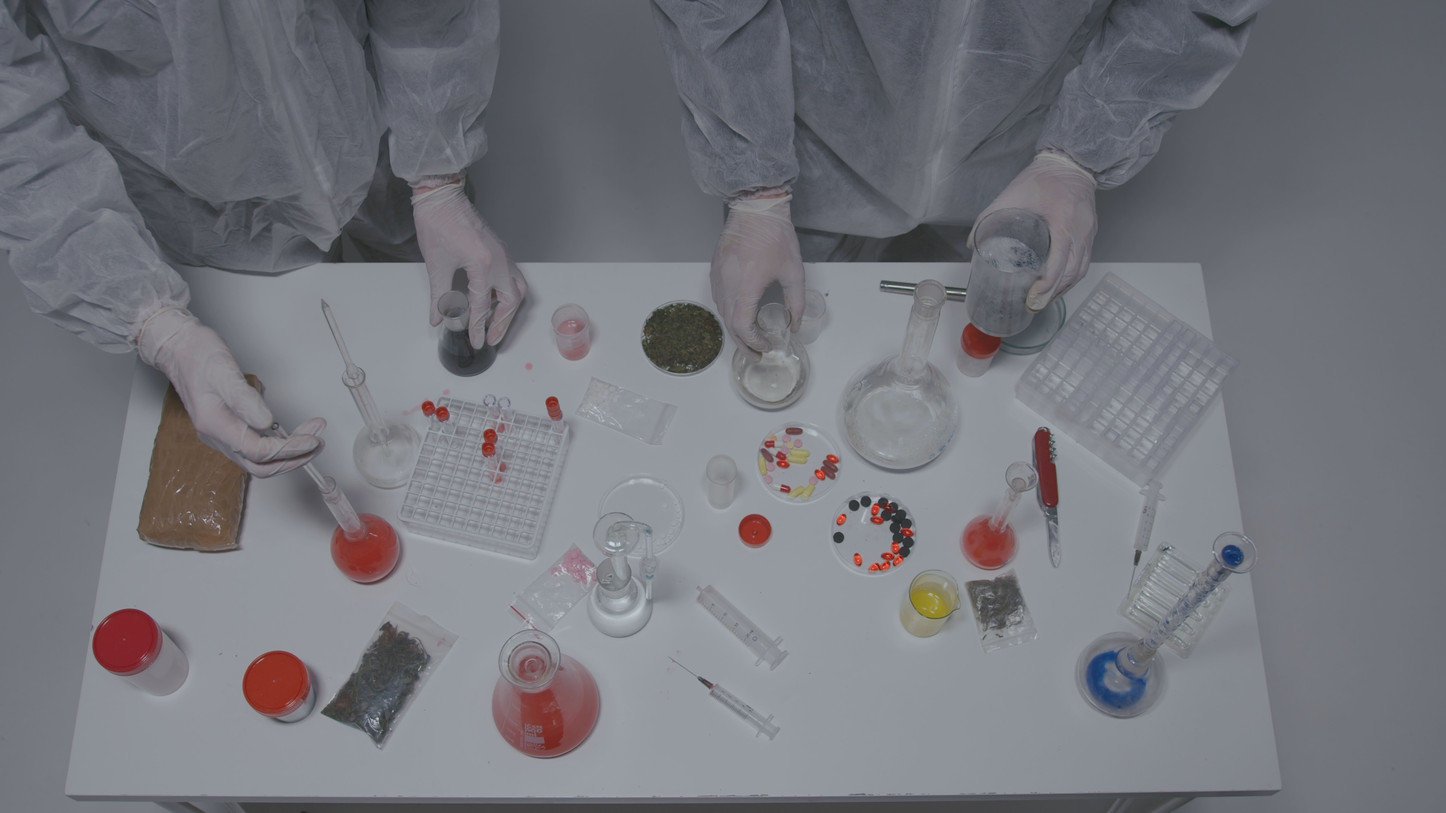gloves: (131, 299, 330, 478), (965, 134, 1139, 321), (387, 188, 550, 346), (707, 186, 824, 369)
